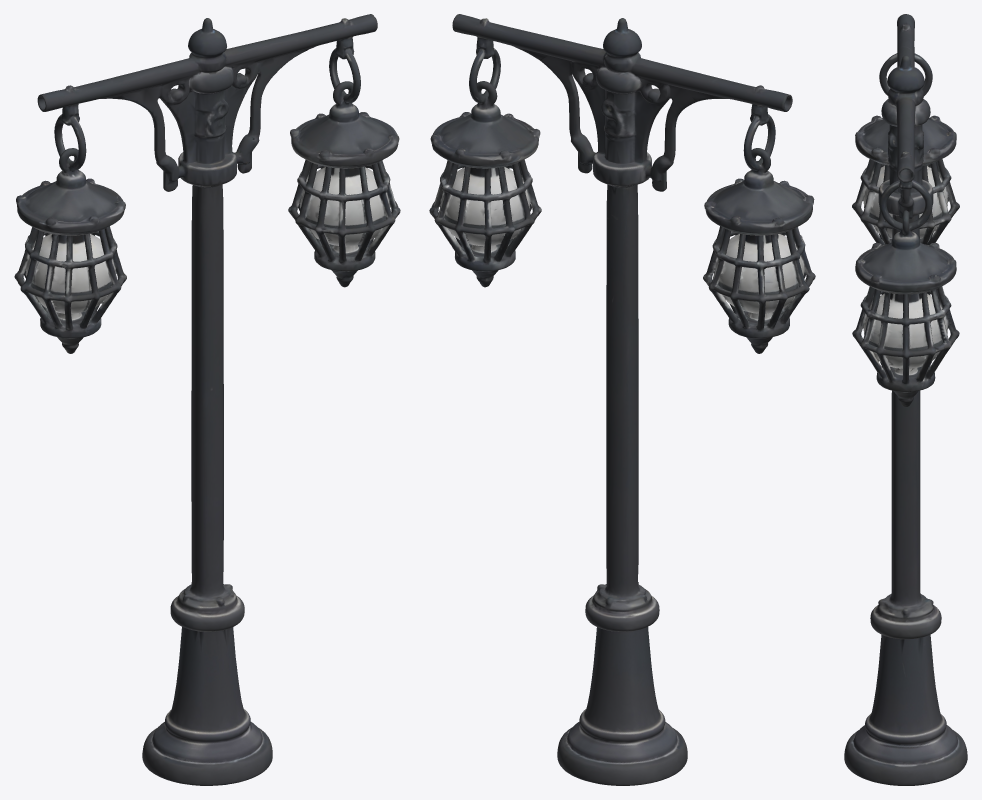
Rendered from plaza-lamp-harbor.glb.
3 views of the same model, side by side, from view 1: azimuth 30°, elevation 25°; view 2: azimuth 150°, elevation 25°; view 3: azimuth 270°, elevation 25° (orthographic). The views are drawn at different scales.
Visible parts, largest first — view 1: tripo_node_7ee4fb5c-0941-4d7c-b5c7-0f50945c4379; view 2: tripo_node_7ee4fb5c-0941-4d7c-b5c7-0f50945c4379; view 3: tripo_node_7ee4fb5c-0941-4d7c-b5c7-0f50945c4379.
Boxes of the visible parts, x1,y1,x2,y2 form: tripo_node_7ee4fb5c-0941-4d7c-b5c7-0f50945c4379: (14,14,400,785); tripo_node_7ee4fb5c-0941-4d7c-b5c7-0f50945c4379: (429,14,815,785); tripo_node_7ee4fb5c-0941-4d7c-b5c7-0f50945c4379: (844,14,967,785).
Size of the model in its own units: 2.11 by 4 by 0.6338.
Materials: 1 (1 with a texture image).
